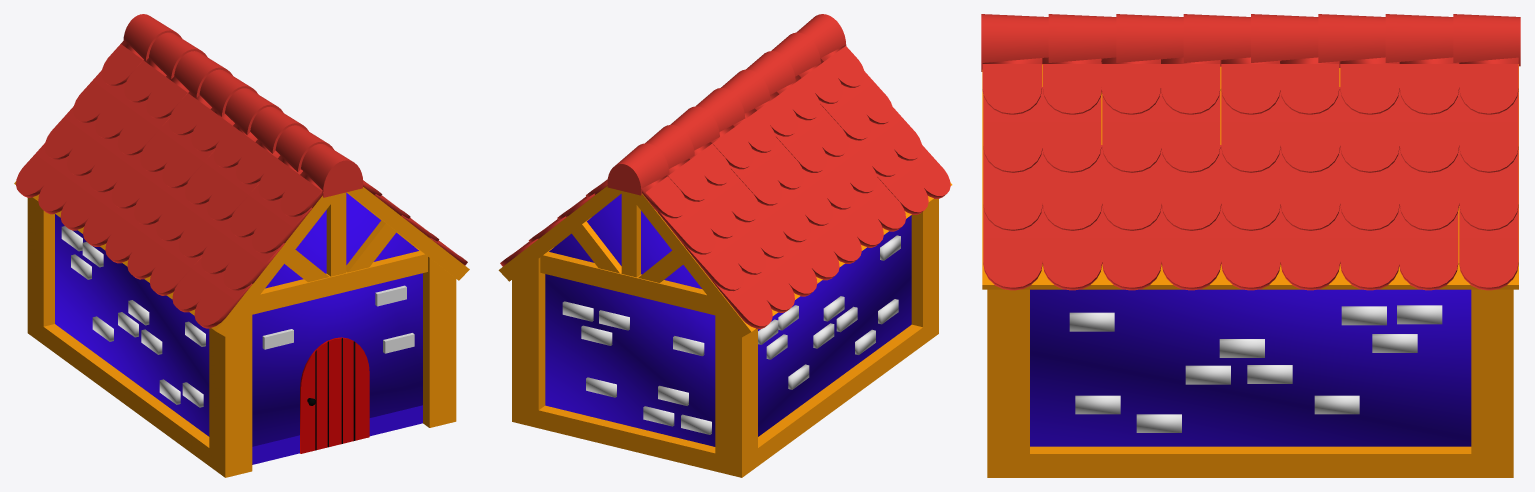
File: Farm_House_1.fbx
3 renders of one model, left to right at view 1: azimuth 30°, elevation 25°; view 2: azimuth 150°, elevation 25°; view 3: azimuth 270°, elevation 25°, orthographic. The views are drawn at different scales.
Visible parts, largest first — view 1: Farm_House_1; view 2: Farm_House_1; view 3: Farm_House_1.
Boxes of the visible parts, x1,y1,x2,y2 form: Farm_House_1: [14, 14, 469, 477]; Farm_House_1: [498, 14, 952, 477]; Farm_House_1: [981, 14, 1520, 477].
Size of the model in its own units: 5.82 by 7.71 by 6.1.
